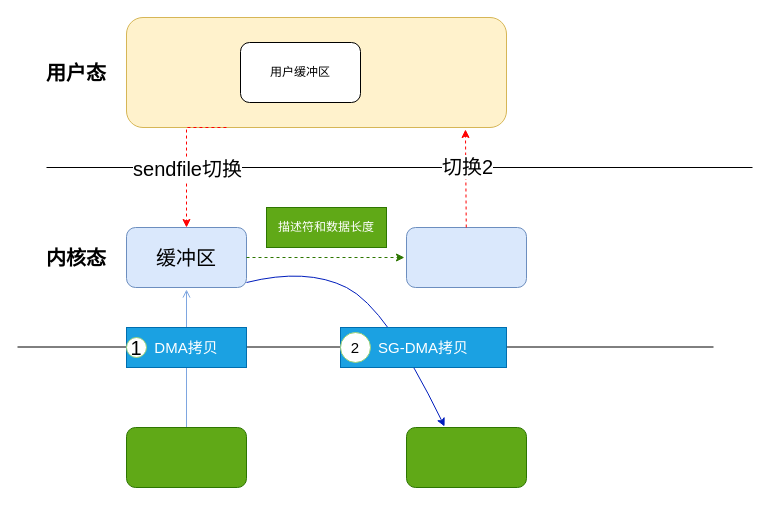
Some shapes in this 771 by 505 pixel diagram are drawn without their labels. The box of each missing label's shape, as (x1, y1, x2, y2) in pixels:
socket缓冲区: (406, 226, 526, 288)
磁盘文件: (126, 426, 246, 488)
网卡: (406, 426, 526, 488)
进程: (126, 16, 506, 128)
